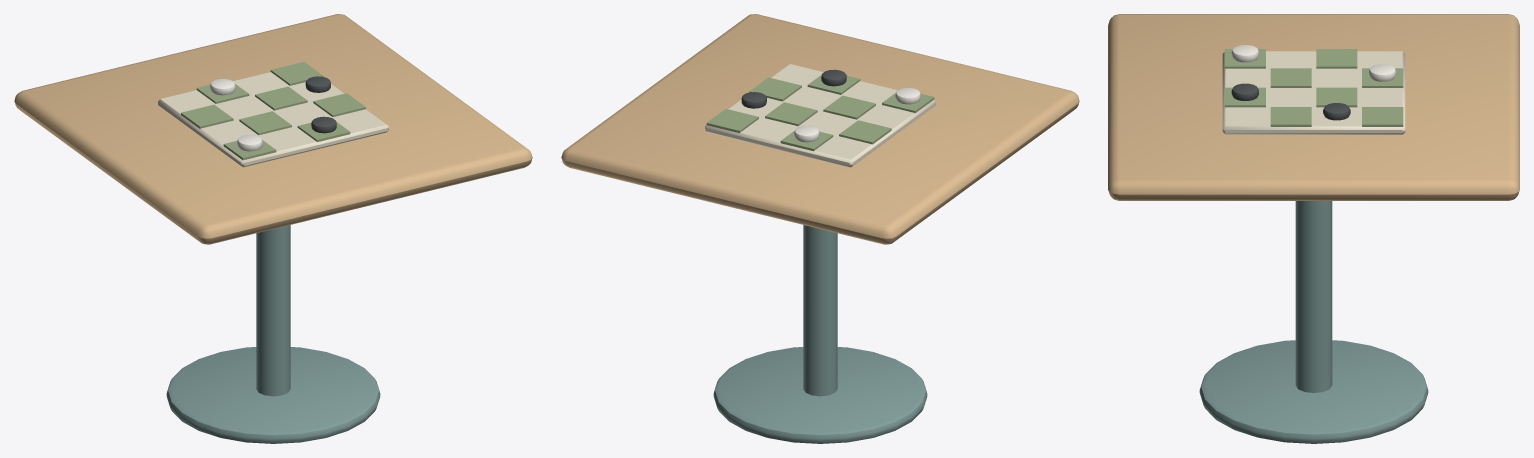
Rendered from games_table.glb.
The picture shows the model from 3 angles, left to right: view 1: azimuth 30°, elevation 25°; view 2: azimuth 150°, elevation 25°; view 3: azimuth 270°, elevation 25°; orthographic projection. The views are drawn at different scales.
Parts seen in each view (by area): view 1: wood, paint, cream, book_c, sheet, rubber; view 2: wood, paint, cream, book_c, rubber, sheet; view 3: wood, paint, cream, book_c, sheet, rubber.
Boxes of the visible parts, left/top/right/bottom form: wood: left=14, top=14, right=532, bottom=244; paint: left=166, top=225, right=380, bottom=443; cream: left=158, top=72, right=388, bottom=167; book_c: left=181, top=62, right=365, bottom=160; sheet: left=210, top=79, right=262, bottom=151; rubber: left=305, top=76, right=336, bottom=133; wood: left=561, top=14, right=1079, bottom=244; paint: left=713, top=225, right=927, bottom=443; cream: left=705, top=64, right=935, bottom=167; book_c: left=706, top=75, right=934, bottom=151; rubber: left=741, top=69, right=846, bottom=108; sheet: left=794, top=88, right=920, bottom=142; wood: left=1108, top=14, right=1519, bottom=200; paint: left=1199, top=201, right=1428, bottom=443; cream: left=1222, top=51, right=1405, bottom=134; book_c: left=1224, top=49, right=1403, bottom=126; sheet: left=1231, top=45, right=1396, bottom=81; rubber: left=1231, top=83, right=1350, bottom=120.
Size of the model in its own units: 0.9 by 0.77 by 0.9.
